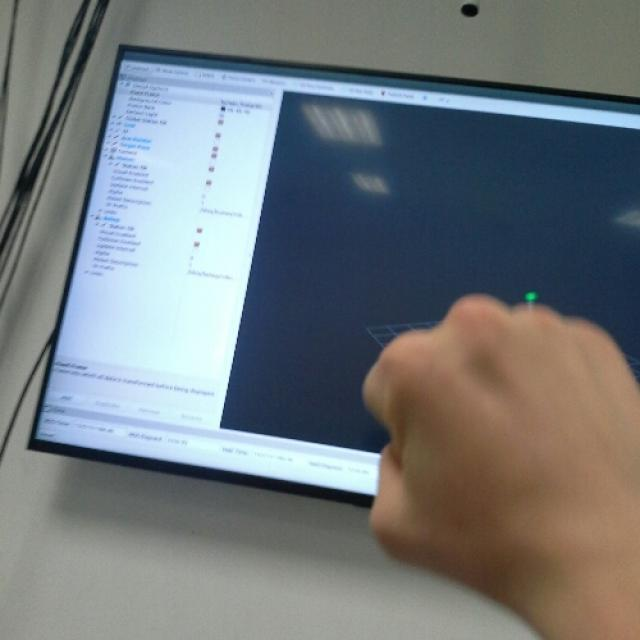rock: (364, 293, 640, 573)
